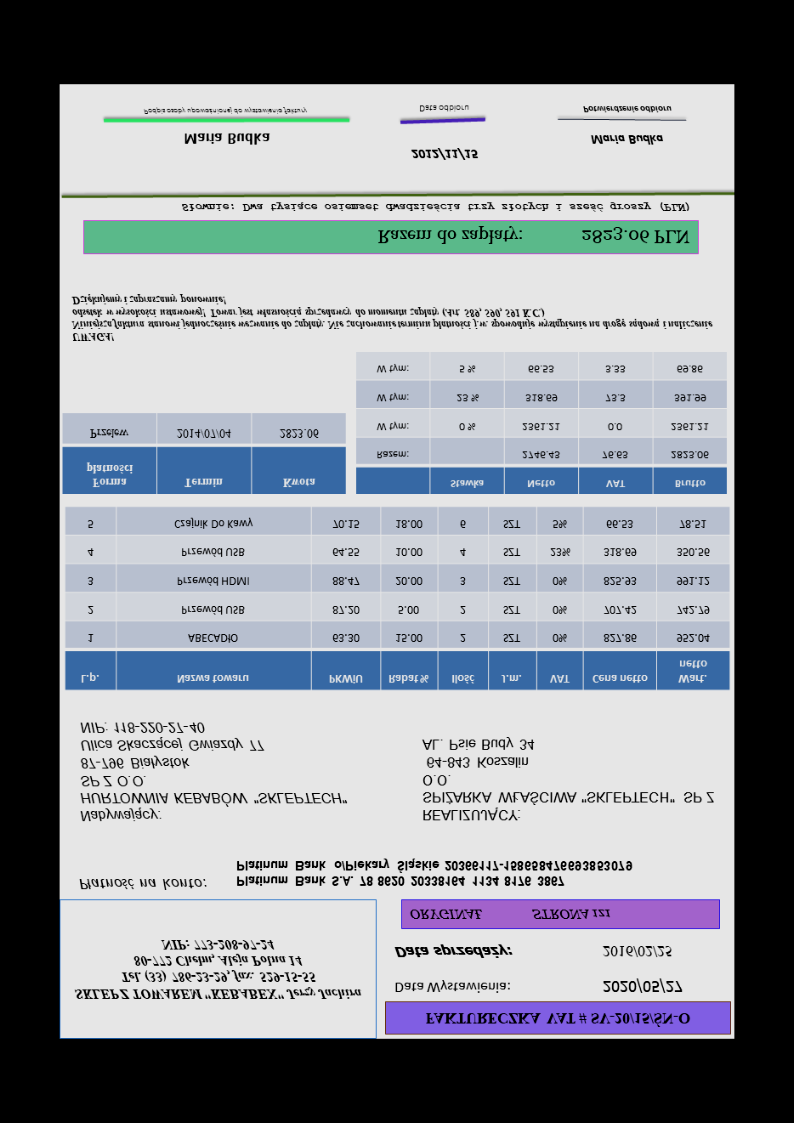Table: (63, 503, 731, 693), (353, 349, 728, 496), (61, 411, 349, 496)
TextBox: (70, 292, 714, 346), (78, 720, 350, 825), (419, 737, 717, 824), (71, 933, 362, 1005), (235, 855, 637, 890), (373, 222, 691, 250), (177, 200, 691, 215), (424, 1007, 696, 1031), (407, 905, 613, 923), (77, 876, 207, 893), (390, 979, 513, 996), (392, 943, 514, 959), (140, 106, 311, 117), (600, 976, 685, 997), (180, 130, 274, 148), (581, 103, 674, 117), (587, 132, 666, 147), (601, 944, 674, 960), (408, 147, 481, 162), (416, 102, 474, 116)
